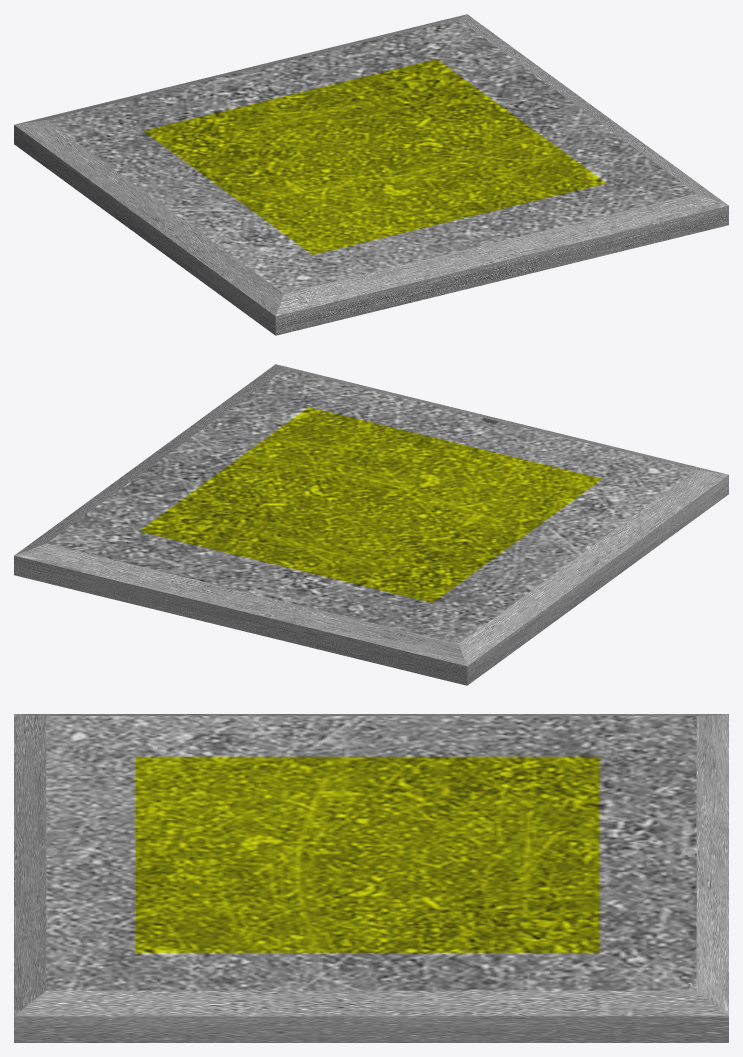
The model's file is piso cuadrado.fbx.
3 views of the same model, one above another, from view 1: azimuth 30°, elevation 25°; view 2: azimuth 150°, elevation 25°; view 3: azimuth 270°, elevation 25° (orthographic). The views are drawn at different scales.
Visible parts, largest first — view 1: Cubo; view 2: Cubo; view 3: Cubo.
Part boxes in pixels (x1,y1,x2,y2): Cubo: [14, 14, 728, 335]; Cubo: [14, 364, 728, 685]; Cubo: [14, 714, 728, 1042].
Size of the model in its own units: 200 by 11.86 by 200.
Materials: 1 (1 with a texture image).
